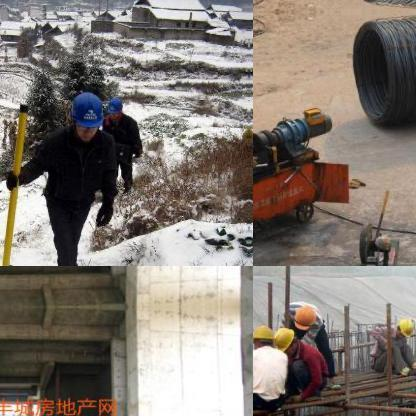Helmet: (66, 93, 100, 141), (290, 301, 320, 330), (103, 94, 125, 122), (253, 321, 274, 350), (271, 326, 296, 350), (392, 316, 412, 338)
